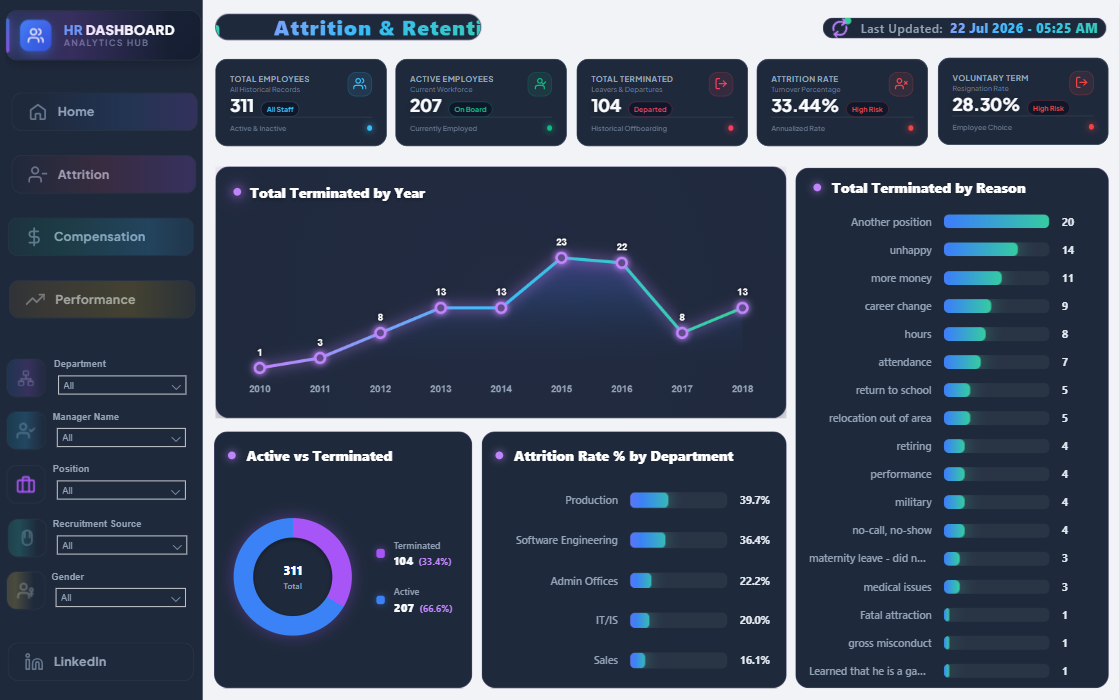

The dashboard page shown, as its layout file describes it:
{"tool":"powerbi","page":{"name":"Attrition","canvas":[1280,800],"ordinal":1},"visuals":[{"type":"htmlContent443BE3AD55E043BF878BED274D3A6855","fields":{"content":["HTML Measures.Card_Total_Employees"]},"box":[246.7,66.8,196,100.5],"z":0},{"type":"htmlContent443BE3AD55E043BF878BED274D3A6855","fields":{"content":["HTML Measures.Card_Active_Employees_Dark"]},"box":[453.1,67,196,100],"z":1000},{"type":"htmlContent443BE3AD55E043BF878BED274D3A6855","fields":{"content":["HTML Measures.Card_Terminated_Employees_Dark"]},"box":[659.6,66.5,196,101],"z":2000},{"type":"htmlContent443BE3AD55E043BF878BED274D3A6855","fields":{"content":["HTML Measures.Card_Attrition_Rate_Dark"]},"box":[866,66.5,196,101.1],"z":3000},{"type":"htmlContent443BE3AD55E043BF878BED274D3A6855","fields":{"content":["HTML Measures.Card_Voluntary_Term_Dark"]},"box":[1072.5,66.4,195,101.2],"z":4000},{"type":"shape","box":[0,0,232.9,800],"z":5000},{"type":"slicer","title":"Manager Name","fields":{"Values":["HR Data.ManagerName"]},"box":[61.7,469.5,157.3,45],"z":6000,"group":"g2"},{"type":"htmlContent443BE3AD55E043BF878BED274D3A6855","fields":{"content":["HTML Measures.Btn_LinkedIn_Standalone"]},"box":[9.4,734.6,213.1,50.9],"z":6000},{"type":"group","id":"g1","title":"Group 1","box":[9,409.4,210,45.3],"z":7000},{"type":"slicer","title":"Position","fields":{"Values":["HR Data.Position"]},"box":[61.7,529.9,156.7,45],"z":7000,"group":"g3"},{"type":"group","id":"g2","title":"Group 2","box":[8.4,469.5,210.7,45.3],"z":8000},{"type":"slicer","title":"Recruitment Source","fields":{"Values":["HR Data.RecruitmentSource"]},"box":[61.7,592.4,158.7,45],"z":8000,"group":"g4"},{"type":"group","id":"g3","title":"Group 3","box":[9,529.9,209.3,47.3],"z":9000},{"type":"slicer","title":"Gender","fields":{"Values":["HR Data.Sex"]},"box":[60.6,652.8,158.3,45.6],"z":9000,"group":"g5"},{"type":"group","id":"g4","title":"Group 4","box":[9.7,592.4,210.7,45.3],"z":10000},{"type":"group","id":"g5","title":"Group 5","box":[8.5,652.8,210.6,45.6],"z":11000},{"type":"htmlContent443BE3AD55E043BF878BED274D3A6855","fields":{"content":["HTML Measures.Nav_Button_Premium_Dark"]},"box":[13.9,105.4,212.9,64.3],"z":12000,"group":"g6"},{"type":"actionButton","box":[57.1,734.3,164.3,41.4],"z":12000},{"type":"group","id":"g6","title":"Group 6","box":[13.9,105.4,212.9,64.3],"z":13000},{"type":"htmlContent443BE3AD55E043BF878BED274D3A6855","fields":{"content":["HTML Measures.Btn_Attrition_Standalone"]},"box":[13.9,177.3,211.4,64.3],"z":13000,"group":"g7"},{"type":"group","id":"g7","title":"Group 7","box":[13.9,177.3,212.5,64.3],"z":14000},{"type":"htmlContent443BE3AD55E043BF878BED274D3A6855","fields":{"content":["HTML Measures.Btn_Compensation_Standalone"]},"box":[9.6,249.2,212.9,62.9],"z":14000,"group":"g8"},{"type":"group","id":"g8","title":"Group 8","box":[9.6,248.9,212.9,63.2],"z":15000},{"type":"htmlContent443BE3AD55E043BF878BED274D3A6855","fields":{"content":["HTML Measures.Btn_Performance_Standalone"]},"box":[11.1,319.7,212.9,64.3],"z":15000,"group":"g9"},{"type":"group","id":"g9","title":"Group 9","box":[11.1,319.6,212.9,64.4],"z":16000},{"type":"htmlContent443BE3AD55E043BF878BED274D3A6855","fields":{"content":["HTML Measures.Btn_HR_Dashboard_Standalone"]},"box":[6.7,12.1,223.9,79.1],"z":17000},{"type":"htmlContent443BE3AD55E043BF878BED274D3A6855","fields":{"content":["HTML Measures.Title_Attrition_Retention_Animated"]},"box":[247.1,15.7,304.3,34.3],"z":18000},{"type":"htmlContent443BE3AD55E043BF878BED274D3A6855","fields":{"content":["HTML Measures.Last_Refresh_Date_Animated"]},"box":[941.4,20,324.3,25.7],"z":19000},{"type":"htmlContent443BE3AD55E043BF878BED274D3A6855","fields":{"content":["HTML Measures.Slicer_Department_Card"]},"box":[9,409.4,44.7,45.3],"z":19000,"group":"g1"},{"type":"htmlContent443BE3AD55E043BF878BED274D3A6855","fields":{"content":["HTML Measures.Terminated_Data_JSON"]},"box":[247,190,653,288],"z":20000},{"type":"slicer","title":"Department","fields":{"Values":["HR Data.Department"]},"box":[63,409.4,156,45],"z":21000,"group":"g1"},{"type":"htmlContent443BE3AD55E043BF878BED274D3A6855","fields":{"content":["HTML Measures.Attrition_BarChart_Animated"]},"box":[551,492.3,348.9,293.4],"z":21000},{"type":"actionButton","box":[58.2,105.7,164.3,43.6],"z":21002,"group":"g6"},{"type":"actionButton","box":[61.7,177.6,164.7,44],"z":21003,"group":"g7"},{"type":"actionButton","box":[57.7,248.9,164.7,44],"z":21004,"group":"g8"},{"type":"actionButton","box":[59.1,319.6,164.7,44],"z":21005,"group":"g9"},{"type":"htmlContent443BE3AD55E043BF878BED274D3A6855","fields":{"content":["HTML Measures.Termination_BarChart_Final_Clean"]},"box":[909.6,190.7,358.6,595],"z":22000},{"type":"htmlContent443BE3AD55E043BF878BED274D3A6855","fields":{"content":["HTML Measures.Slicer_Manager_Icon_Only"]},"box":[8.4,469.5,44.7,45.3],"z":22000,"group":"g2"},{"type":"htmlContent443BE3AD55E043BF878BED274D3A6855","fields":{"content":["HTML Measures.Slicer_Gender_Icon_Only"]},"box":[8.5,652.8,44.7,45.3],"z":22004,"group":"g5"},{"type":"htmlContent443BE3AD55E043BF878BED274D3A6855","fields":{"content":["HTML Measures.Attrition_DonutChart_Animated"]},"box":[246.2,492.3,295.1,293.4],"z":23000},{"type":"htmlContent443BE3AD55E043BF878BED274D3A6855","fields":{"content":["HTML Measures.Slicer_Position_Icon_Only"]},"box":[9,531.9,44.7,45.3],"z":23000,"group":"g3"},{"type":"htmlContent443BE3AD55E043BF878BED274D3A6855","fields":{"content":["HTML Measures.Slicer_RecruitmentSource_Icon_Only"]},"box":[9.7,592.4,44.7,45.3],"z":24000,"group":"g4"}]}

Visuals, with their boxes on the page's 1280x800 design canvas (x1, y1, x2, y2). These are canvas units, not pixel positions in the 1120x700 screenshot, which may show the page scaled, cropped or inside an application window:
htmlContent443BE3AD55E043BF878BED274D3A6855 - HTML Measures.Card_Total_Employees: <box>247,67,443,167</box>
htmlContent443BE3AD55E043BF878BED274D3A6855 - HTML Measures.Card_Active_Employees_Dark: <box>453,67,649,167</box>
htmlContent443BE3AD55E043BF878BED274D3A6855 - HTML Measures.Card_Terminated_Employees_Dark: <box>660,66,856,168</box>
htmlContent443BE3AD55E043BF878BED274D3A6855 - HTML Measures.Card_Attrition_Rate_Dark: <box>866,66,1062,168</box>
htmlContent443BE3AD55E043BF878BED274D3A6855 - HTML Measures.Card_Voluntary_Term_Dark: <box>1072,66,1268,168</box>
shape: <box>0,0,233,800</box>
"Manager Name" slicer: <box>62,470,219,514</box>
htmlContent443BE3AD55E043BF878BED274D3A6855 - HTML Measures.Btn_LinkedIn_Standalone: <box>9,735,222,786</box>
"Group 1" group: <box>9,409,219,455</box>
"Position" slicer: <box>62,530,218,575</box>
"Group 2" group: <box>8,470,219,515</box>
"Recruitment Source" slicer: <box>62,592,220,637</box>
"Group 3" group: <box>9,530,218,577</box>
"Gender" slicer: <box>61,653,219,698</box>
"Group 4" group: <box>10,592,220,638</box>
"Group 5" group: <box>8,653,219,698</box>
htmlContent443BE3AD55E043BF878BED274D3A6855 - HTML Measures.Nav_Button_Premium_Dark: <box>14,105,227,170</box>
actionButton: <box>57,734,221,776</box>
"Group 6" group: <box>14,105,227,170</box>
htmlContent443BE3AD55E043BF878BED274D3A6855 - HTML Measures.Btn_Attrition_Standalone: <box>14,177,225,242</box>
"Group 7" group: <box>14,177,226,242</box>
htmlContent443BE3AD55E043BF878BED274D3A6855 - HTML Measures.Btn_Compensation_Standalone: <box>10,249,222,312</box>
"Group 8" group: <box>10,249,222,312</box>
htmlContent443BE3AD55E043BF878BED274D3A6855 - HTML Measures.Btn_Performance_Standalone: <box>11,320,224,384</box>
"Group 9" group: <box>11,320,224,384</box>
htmlContent443BE3AD55E043BF878BED274D3A6855 - HTML Measures.Btn_HR_Dashboard_Standalone: <box>7,12,231,91</box>
htmlContent443BE3AD55E043BF878BED274D3A6855 - HTML Measures.Title_Attrition_Retention_Animated: <box>247,16,551,50</box>
htmlContent443BE3AD55E043BF878BED274D3A6855 - HTML Measures.Last_Refresh_Date_Animated: <box>941,20,1266,46</box>
htmlContent443BE3AD55E043BF878BED274D3A6855 - HTML Measures.Slicer_Department_Card: <box>9,409,54,455</box>
htmlContent443BE3AD55E043BF878BED274D3A6855 - HTML Measures.Terminated_Data_JSON: <box>247,190,900,478</box>
"Department" slicer: <box>63,409,219,454</box>
htmlContent443BE3AD55E043BF878BED274D3A6855 - HTML Measures.Attrition_BarChart_Animated: <box>551,492,900,786</box>
actionButton: <box>58,106,222,149</box>
actionButton: <box>62,178,226,222</box>
actionButton: <box>58,249,222,293</box>
actionButton: <box>59,320,224,364</box>
htmlContent443BE3AD55E043BF878BED274D3A6855 - HTML Measures.Termination_BarChart_Final_Clean: <box>910,191,1268,786</box>
htmlContent443BE3AD55E043BF878BED274D3A6855 - HTML Measures.Slicer_Manager_Icon_Only: <box>8,470,53,515</box>
htmlContent443BE3AD55E043BF878BED274D3A6855 - HTML Measures.Slicer_Gender_Icon_Only: <box>8,653,53,698</box>
htmlContent443BE3AD55E043BF878BED274D3A6855 - HTML Measures.Attrition_DonutChart_Animated: <box>246,492,541,786</box>
htmlContent443BE3AD55E043BF878BED274D3A6855 - HTML Measures.Slicer_Position_Icon_Only: <box>9,532,54,577</box>
htmlContent443BE3AD55E043BF878BED274D3A6855 - HTML Measures.Slicer_RecruitmentSource_Icon_Only: <box>10,592,54,638</box>
